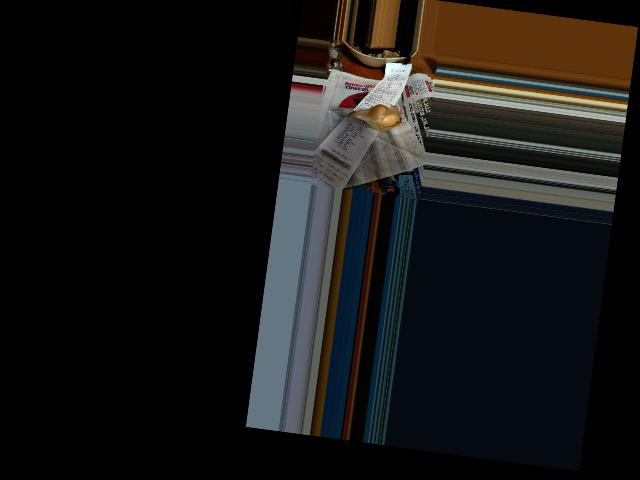onion: (356, 104, 402, 132)
